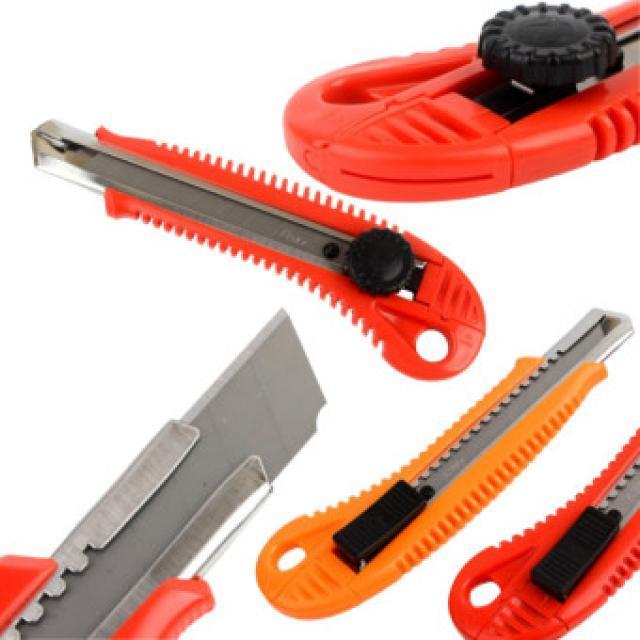cutter: (15, 90, 506, 387), (240, 304, 640, 624), (0, 286, 361, 638), (280, 0, 640, 215), (436, 406, 638, 640)
